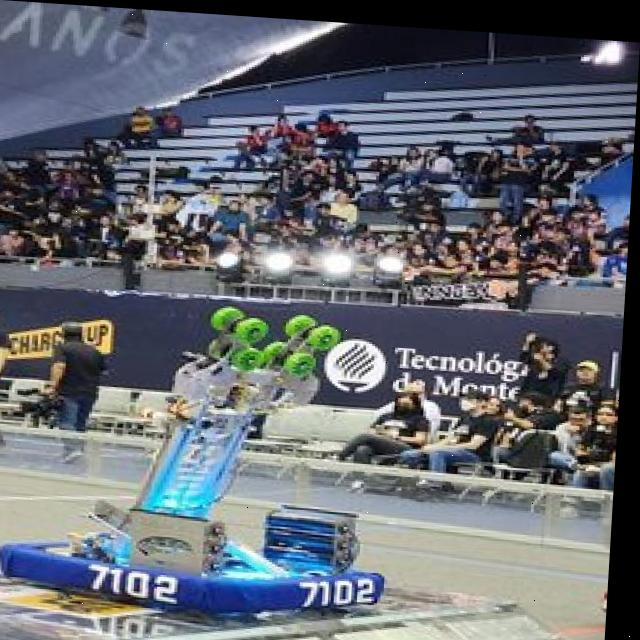robot: (0, 280, 411, 632)
